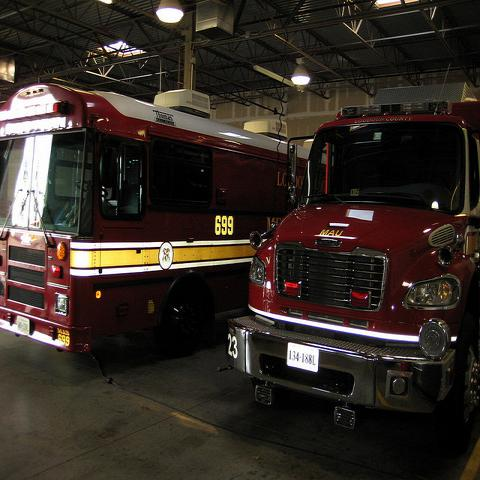bus: (1, 81, 311, 354)
truck: (214, 64, 480, 430)
